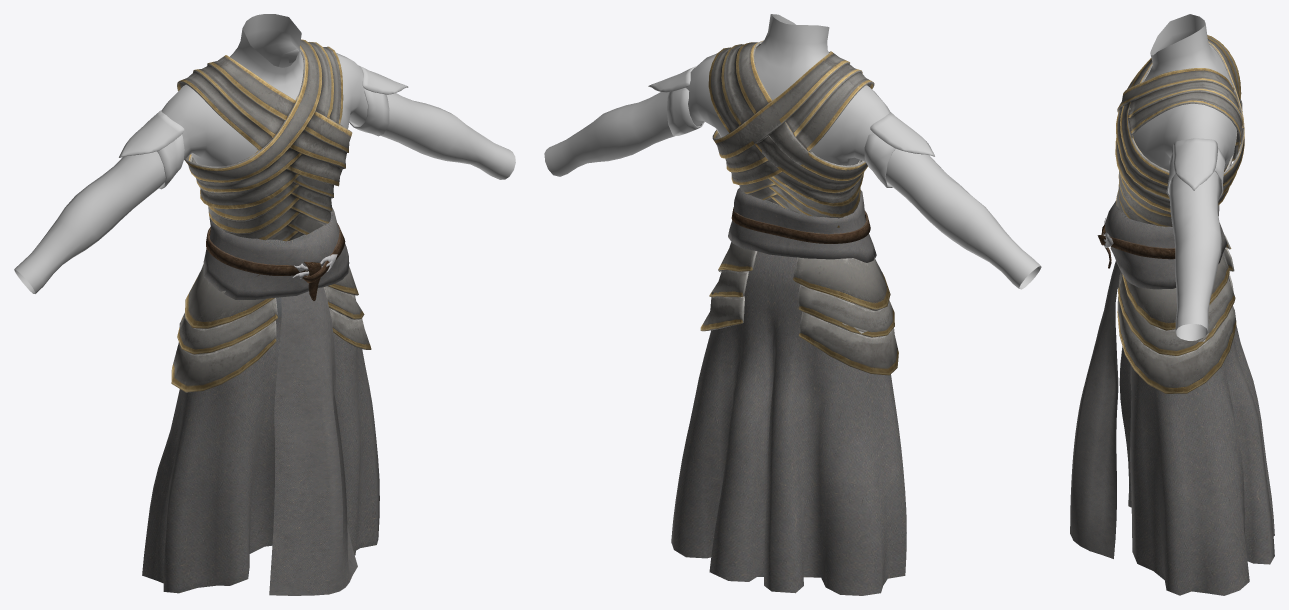
File: rivendell_torso_infantry_tier2_silvergold.fbx
3 renders of one model, left to right at view 1: azimuth 30°, elevation 25°; view 2: azimuth 150°, elevation 25°; view 3: azimuth 270°, elevation 25°, orthographic. The views are drawn at different scales.
Parts seen in each view (by area): view 1: rivendell_torso_infantry_tier2_silvergold.0, rivendell_torso_infantry_tier2_silvergold.3, rivendell_torso_infantry_tier2_silvergold.4, rivendell_torso_infantry_tier2_silvergold.1, rivendell_torso_infantry_tier2_silvergold.2, rivendell_torso_infantry_tier2_silvergold.5; view 2: rivendell_torso_infantry_tier2_silvergold.0, rivendell_torso_infantry_tier2_silvergold.4, rivendell_torso_infantry_tier2_silvergold.1, rivendell_torso_infantry_tier2_silvergold.2, rivendell_torso_infantry_tier2_silvergold.3, rivendell_torso_infantry_tier2_silvergold.5; view 3: rivendell_torso_infantry_tier2_silvergold.0, rivendell_torso_infantry_tier2_silvergold.3, rivendell_torso_infantry_tier2_silvergold.4, rivendell_torso_infantry_tier2_silvergold.1, rivendell_torso_infantry_tier2_silvergold.2, rivendell_torso_infantry_tier2_silvergold.5.
Boxes of the visible parts, x1,y1,x2,y2 form: rivendell_torso_infantry_tier2_silvergold.0: [142, 297, 379, 593]; rivendell_torso_infantry_tier2_silvergold.3: [203, 207, 357, 595]; rivendell_torso_infantry_tier2_silvergold.4: [14, 14, 515, 293]; rivendell_torso_infantry_tier2_silvergold.1: [177, 39, 352, 277]; rivendell_torso_infantry_tier2_silvergold.2: [171, 264, 371, 392]; rivendell_torso_infantry_tier2_silvergold.5: [119, 65, 408, 189]; rivendell_torso_infantry_tier2_silvergold.0: [671, 251, 906, 595]; rivendell_torso_infantry_tier2_silvergold.4: [544, 14, 1041, 289]; rivendell_torso_infantry_tier2_silvergold.1: [708, 40, 874, 227]; rivendell_torso_infantry_tier2_silvergold.2: [700, 242, 898, 375]; rivendell_torso_infantry_tier2_silvergold.3: [728, 188, 876, 262]; rivendell_torso_infantry_tier2_silvergold.5: [648, 66, 934, 187]; rivendell_torso_infantry_tier2_silvergold.0: [1119, 251, 1274, 595]; rivendell_torso_infantry_tier2_silvergold.3: [1070, 200, 1227, 558]; rivendell_torso_infantry_tier2_silvergold.4: [1132, 14, 1236, 340]; rivendell_torso_infantry_tier2_silvergold.1: [1115, 35, 1244, 226]; rivendell_torso_infantry_tier2_silvergold.2: [1117, 234, 1236, 393]; rivendell_torso_infantry_tier2_silvergold.5: [1166, 138, 1225, 201].
Size of the model in its own units: 1.38 by 0.5129 by 1.46.
